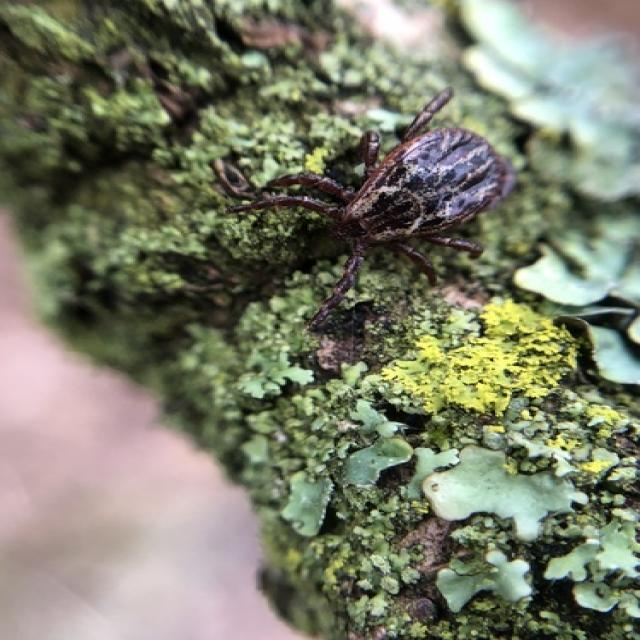Dermacentor Reticulatus-M: (212, 88, 515, 311)
